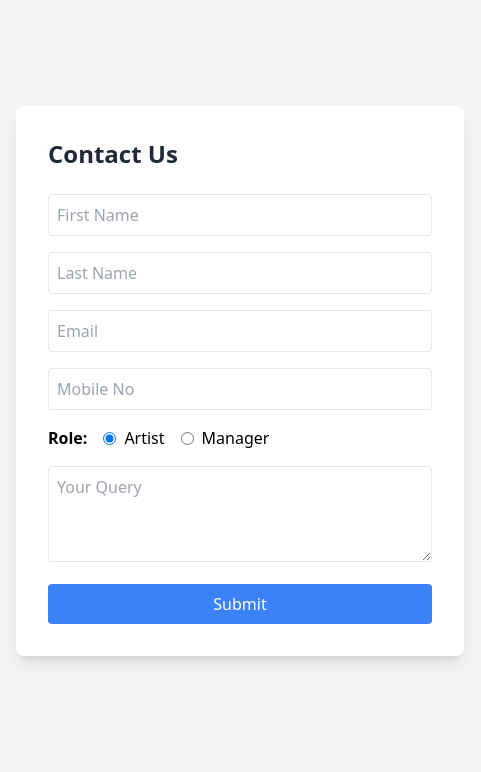
ContactForm Component › displays validation errors when submitting an empty form
The width and height of the screenshot is (481, 772).
Click the button "Submit" at (240, 604), box [48,584,432,624]
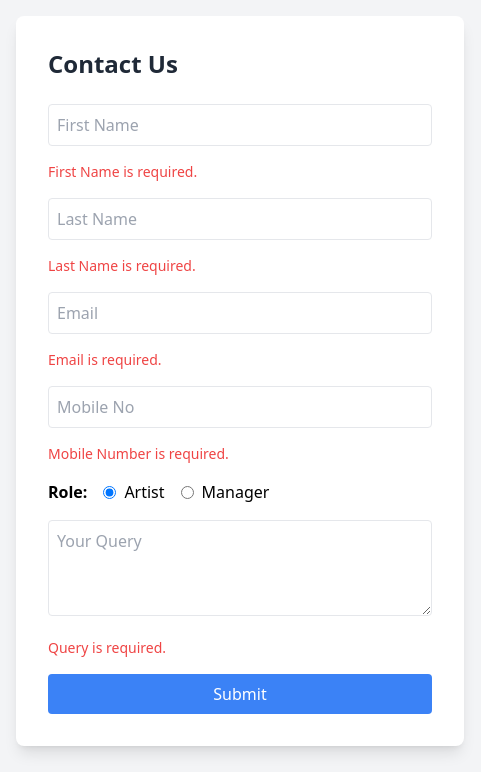
Result: the text "First Name is required." is shown at [48,162,197,181]
Result: the text "Last Name is required." is shown at [48,256,196,275]
Result: the text "Email is required." is shown at [48,350,162,369]
